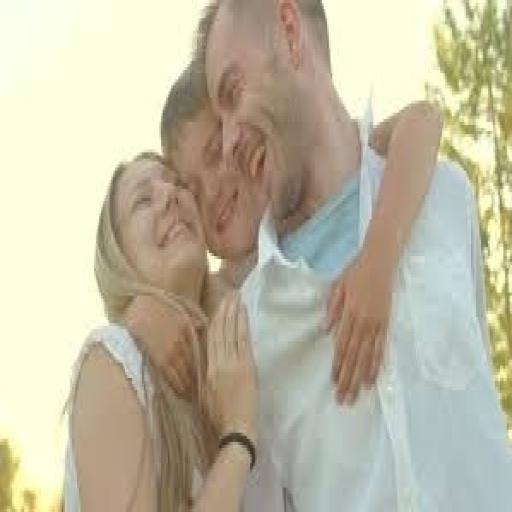hugging: (56, 0, 508, 509), (58, 146, 260, 509)
